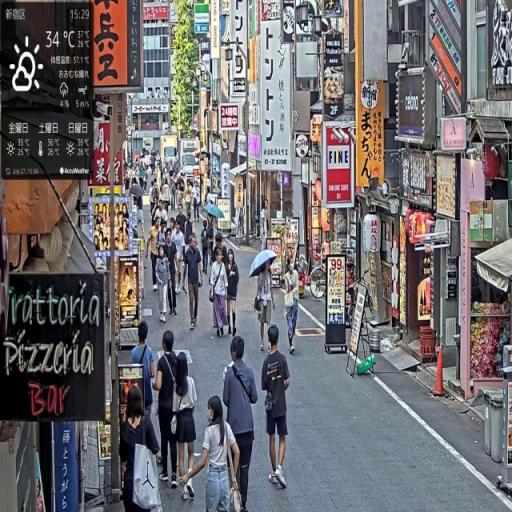person: (181, 394, 242, 512), (222, 334, 259, 512), (262, 324, 293, 493), (121, 388, 163, 512), (155, 333, 184, 490), (173, 353, 199, 504), (131, 322, 157, 421), (184, 235, 205, 332), (210, 245, 231, 342), (254, 262, 276, 354), (155, 242, 173, 326), (226, 249, 242, 339), (166, 231, 180, 319)
